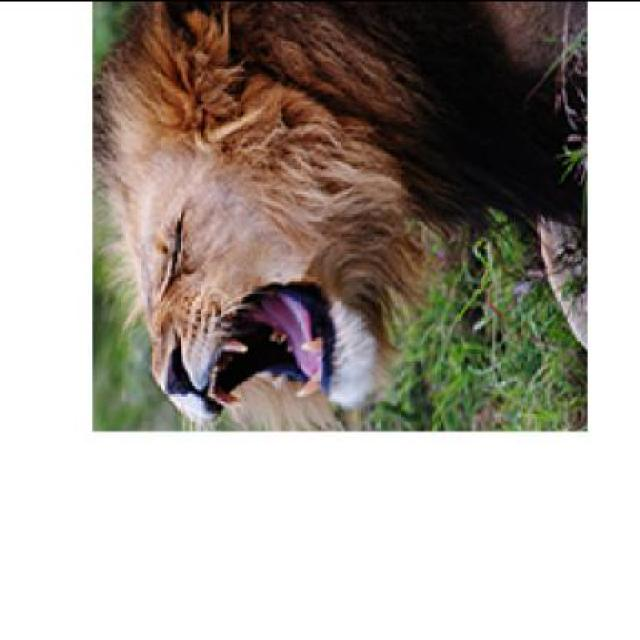Lion: (111, 3, 600, 431)
